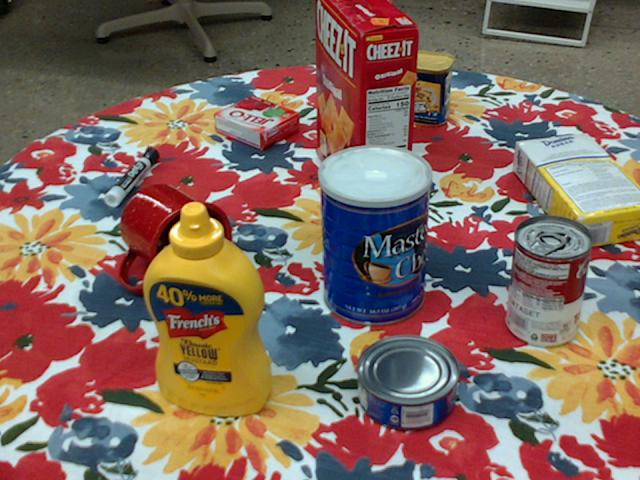cracker_box: (316, 0, 418, 214)
gelatin_box: (212, 95, 298, 150)
large_marker: (102, 146, 157, 206)
master_chef_can: (317, 145, 431, 327)
mug: (118, 184, 232, 292)
mustard_bottle: (142, 202, 272, 415)
potted_meat_can: (375, 46, 455, 124)
sugar_box: (513, 131, 639, 250)
tomato_soup_can: (506, 214, 591, 347)
tuna_fish_can: (354, 335, 456, 431)
